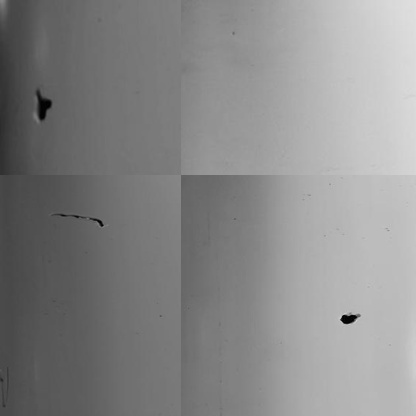fengxi: (51, 206, 107, 234)
kongdong: (31, 89, 55, 125), (336, 307, 358, 326)
